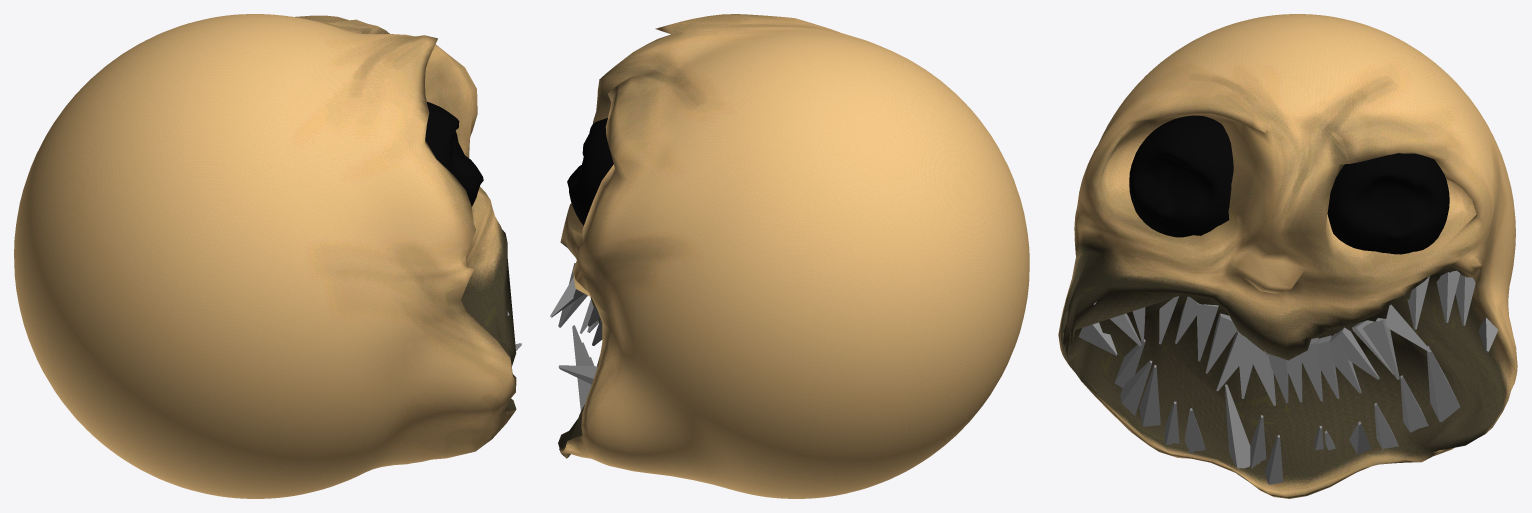
File: dealer head crushed test1.glb
3 views of the same model, side by side, from view 1: azimuth 30°, elevation 25°; view 2: azimuth 150°, elevation 25°; view 3: azimuth 270°, elevation 25° (orthographic). The views are drawn at different scales.
Parts seen in each view (by area): view 1: dealer head crushed; view 2: dealer head crushed; view 3: dealer head crushed.
Part boxes in pixels (x1=…): dealer head crushed: x1=14, y1=14, x2=521, y2=498; dealer head crushed: x1=550, y1=14, x2=1029, y2=498; dealer head crushed: x1=1058, y1=14, x2=1517, y2=498.
Size of the model in its own units: 2 by 2 by 2.09.
Materials: 3 (1 with a texture image).
